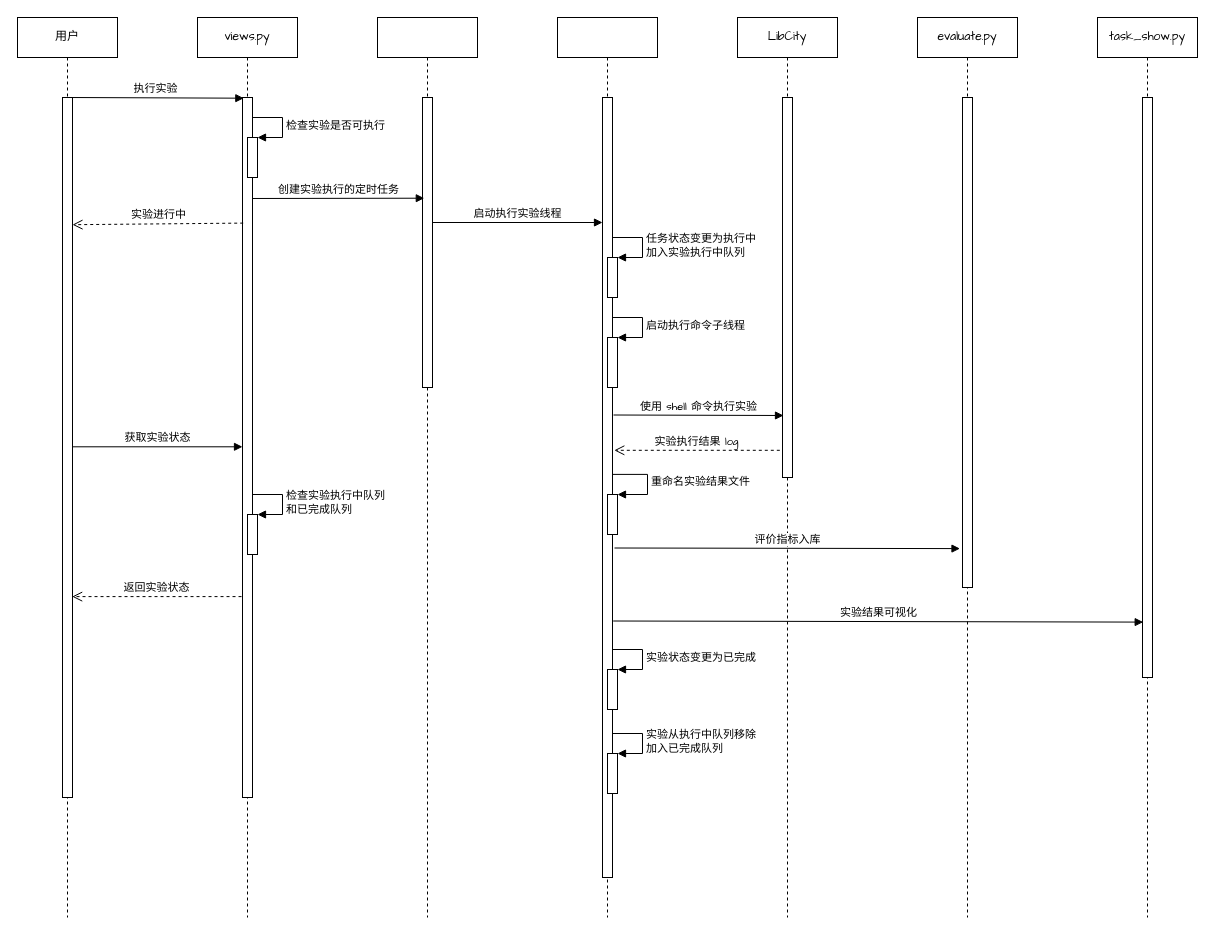
Image size: 1215x935. Some labels were removed from this diagram. Here are the shapes that lost their labels. From the top down, the box of each, then its label:
(376, 16, 478, 918): scheduler.py
(556, 16, 658, 918): threads.py
